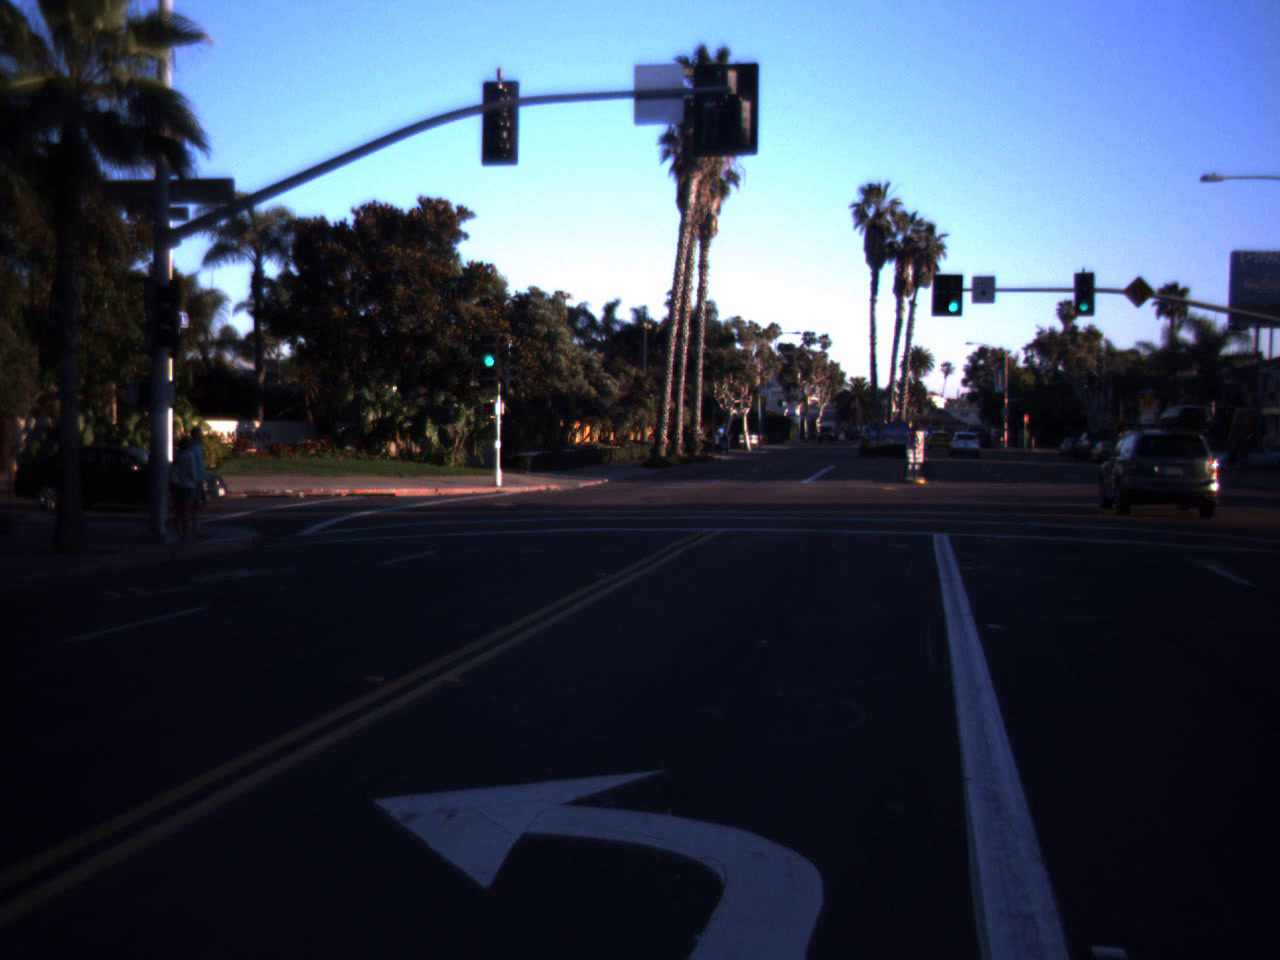go: (476, 321, 503, 371), (941, 275, 965, 315), (1073, 287, 1094, 312)
